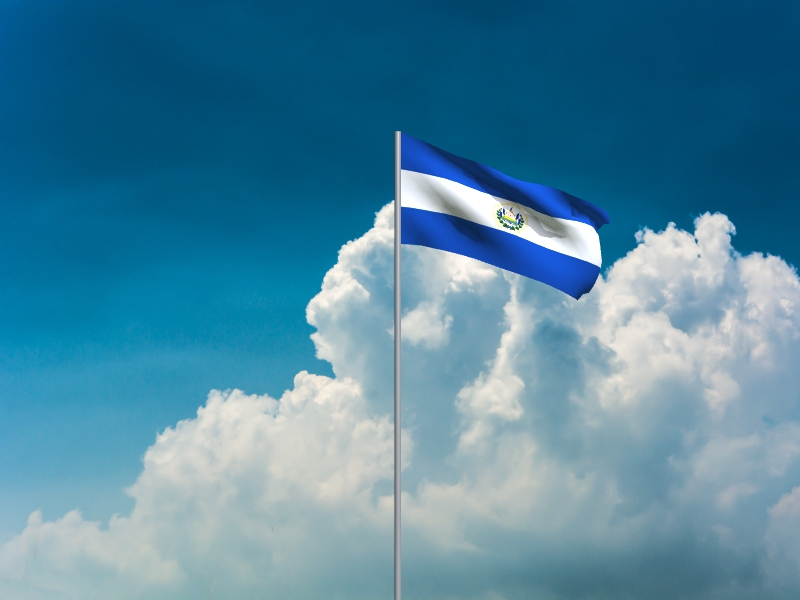sv: (401, 135, 611, 302)
